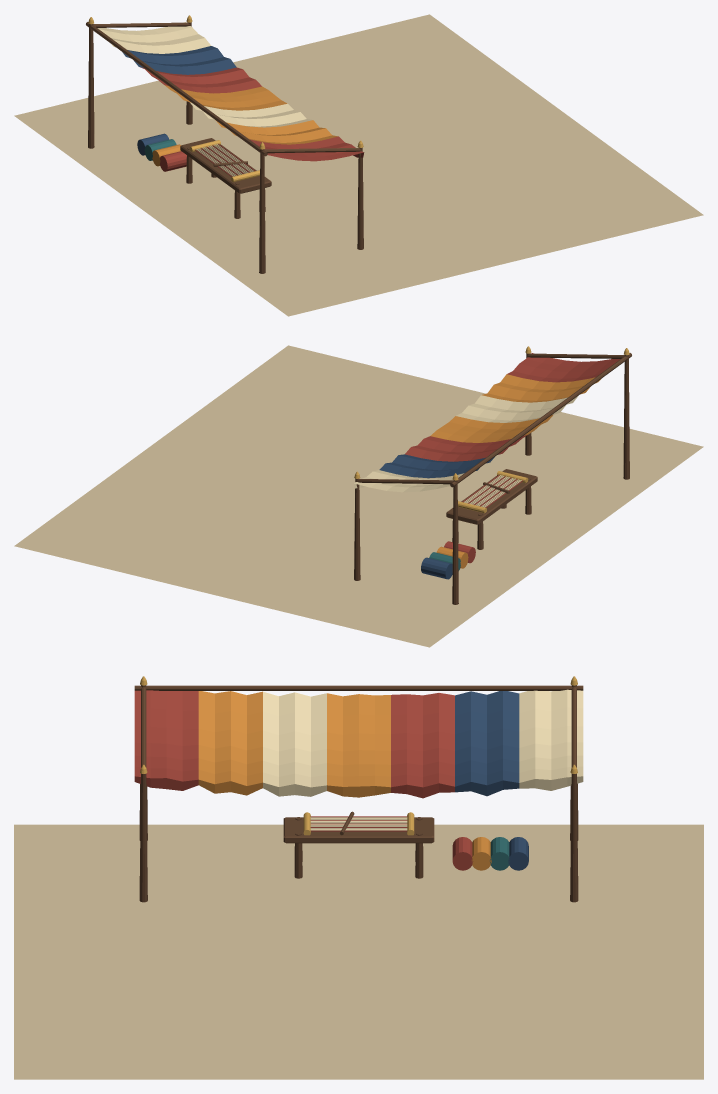
Rendered from room-yard_s.glb.
3 renders of one model, top to bottom at view 1: azimuth 30°, elevation 25°; view 2: azimuth 150°, elevation 25°; view 3: azimuth 270°, elevation 25°, orthographic. The views are drawn at different scales.
Visible parts, largest first — view 1: Surveyed floor · room-yard_s, Cloth Yard · block printers’ arcade · timber, Cloth Yard · block printers’ arcade · linen, Cloth Yard · block printers’ arcade · madder, Cloth Yard · block printers’ arcade · saffron, Cloth Yard · block printers’ arcade · indigo, Cloth Yard · block printers’ arcade · brass; view 2: Surveyed floor · room-yard_s, Cloth Yard · block printers’ arcade · timber, Cloth Yard · block printers’ arcade · madder, Cloth Yard · block printers’ arcade · saffron, Cloth Yard · block printers’ arcade · linen, Cloth Yard · block printers’ arcade · indigo, Cloth Yard · block printers’ arcade · brass; view 3: Surveyed floor · room-yard_s, Cloth Yard · block printers’ arcade · madder, Cloth Yard · block printers’ arcade · saffron, Cloth Yard · block printers’ arcade · linen, Cloth Yard · block printers’ arcade · timber, Cloth Yard · block printers’ arcade · indigo.
Part boxes in pixels (bbox=[...]): Surveyed floor · room-yard_s: bbox=[14, 14, 703, 316]; Cloth Yard · block printers’ arcade · timber: bbox=[86, 22, 363, 273]; Cloth Yard · block printers’ arcade · linen: bbox=[97, 22, 312, 176]; Cloth Yard · block printers’ arcade · madder: bbox=[140, 67, 364, 176]; Cloth Yard · block printers’ arcade · saffron: bbox=[152, 85, 337, 166]; Cloth Yard · block printers’ arcade · indigo: bbox=[122, 46, 236, 155]; Cloth Yard · block printers’ arcade · brass: bbox=[88, 15, 363, 182]; Surveyed floor · room-yard_s: bbox=[14, 345, 703, 647]; Cloth Yard · block printers’ arcade · timber: bbox=[354, 353, 631, 604]; Cloth Yard · block printers’ arcade · madder: bbox=[405, 353, 620, 563]; Cloth Yard · block printers’ arcade · saffron: bbox=[430, 374, 600, 568]; Cloth Yard · block printers’ arcade · linen: bbox=[353, 395, 578, 507]; Cloth Yard · block printers’ arcade · indigo: bbox=[379, 454, 494, 579]; Cloth Yard · block printers’ arcade · brass: bbox=[354, 346, 629, 513]; Surveyed floor · room-yard_s: bbox=[14, 824, 703, 1079]; Cloth Yard · block printers’ arcade · madder: bbox=[134, 690, 473, 870]; Cloth Yard · block printers’ arcade · saffron: bbox=[198, 691, 491, 870]; Cloth Yard · block printers’ arcade · linen: bbox=[263, 689, 583, 830]; Cloth Yard · block printers’ arcade · timber: bbox=[134, 685, 583, 902]; Cloth Yard · block printers’ arcade · indigo: bbox=[455, 691, 528, 870].
Size of the model in its own units: 14 by 4.19 by 16.
